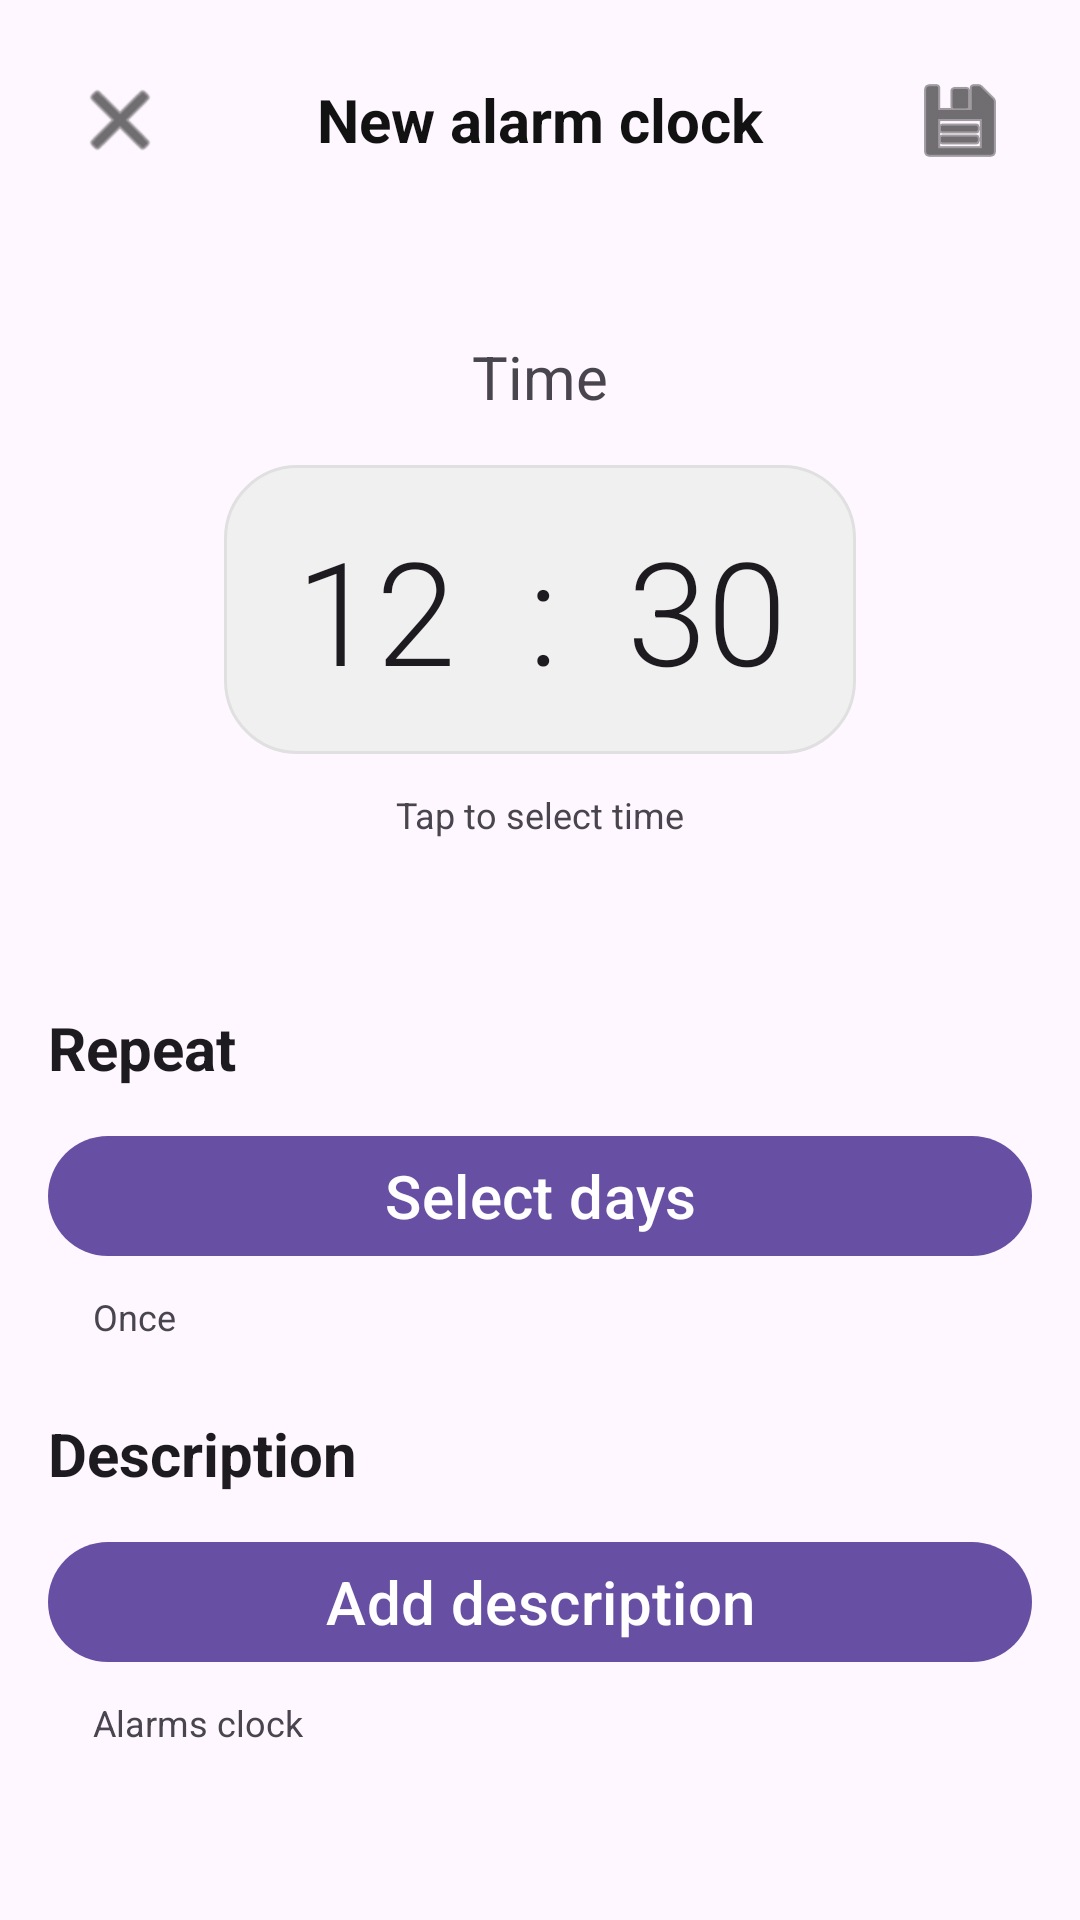

Screen size 1080px×1920px. Icon name, then its center in pixels as (x,y):
Cancel: (120,120)
Save: (960,120)
